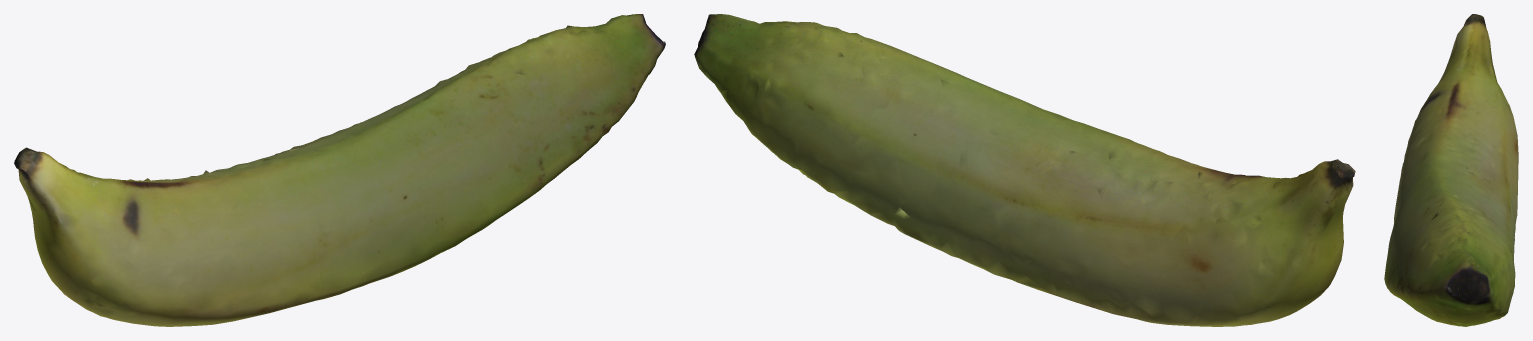
The model's file is banana_efe0becd_visual.obj.
3 renders of one model, left to right at view 1: azimuth 30°, elevation 25°; view 2: azimuth 150°, elevation 25°; view 3: azimuth 270°, elevation 25°, orthographic. The views are drawn at different scales.
Bounding box in the file's own units: 0.1348 × 0.04 × 0.03.
Materials: 1 (1 with a texture image).
